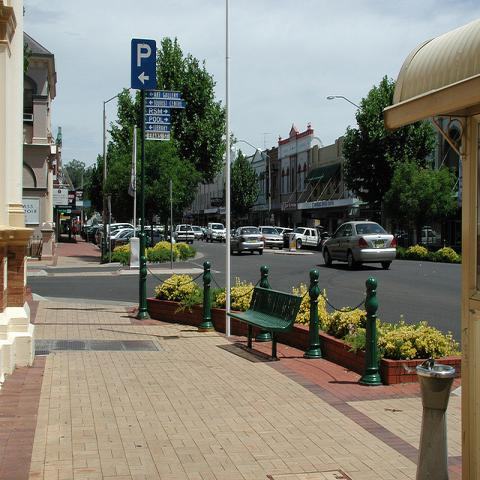car: (321, 220, 395, 270), (110, 228, 176, 252), (231, 226, 266, 255), (107, 228, 135, 251), (258, 225, 283, 250), (206, 223, 226, 243), (175, 224, 194, 244), (276, 227, 294, 248), (422, 226, 437, 244), (191, 225, 204, 242), (87, 227, 100, 242)
truck: (286, 227, 318, 249)
